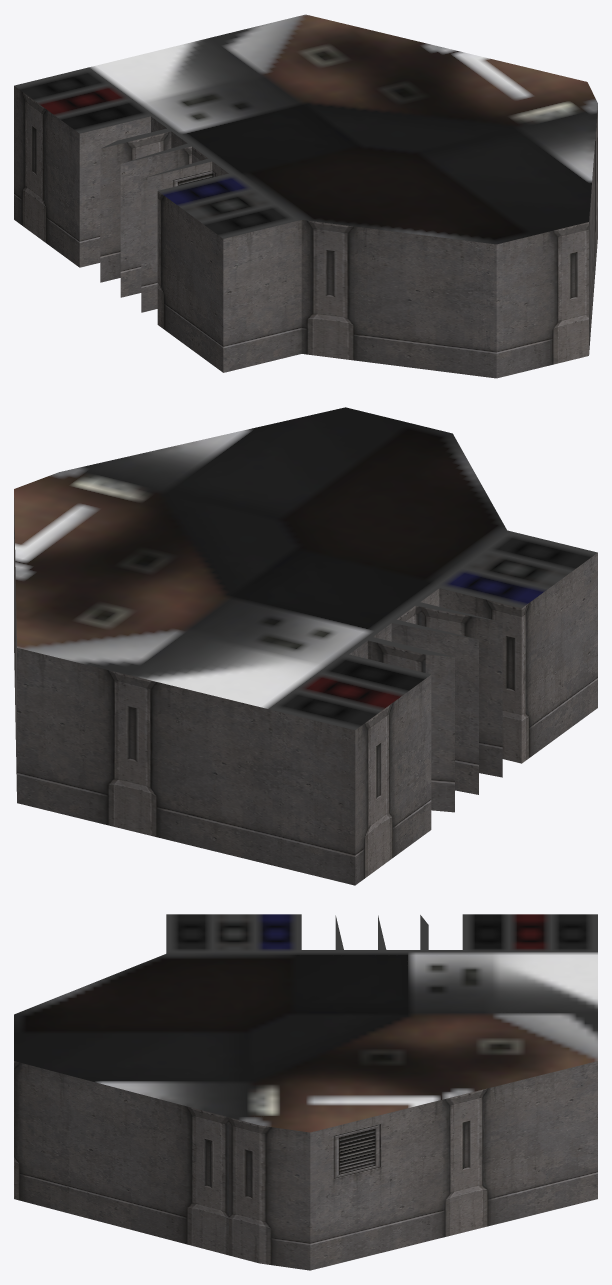
The model's file is BuildingSystem-03-Advance-04-ReinforcedLow-J-110-02.glb.
3 renders of one model, top to bottom at view 1: azimuth 30°, elevation 25°; view 2: azimuth 150°, elevation 25°; view 3: azimuth 270°, elevation 25°, orthographic. The views are drawn at different scales.
Visible parts, largest first — view 1: buildings/saxarba/SMV_Buildings/BuildingSystem-03-Advance-04; view 2: buildings/saxarba/SMV_Buildings/BuildingSystem-03-Advance-04; view 3: buildings/saxarba/SMV_Buildings/BuildingSystem-03-Advance-04.
Boxes of the visible parts, box(x1,y1,x2,y2) form: buildings/saxarba/SMV_Buildings/BuildingSystem-03-Advance-04: box(14, 14, 597, 378); buildings/saxarba/SMV_Buildings/BuildingSystem-03-Advance-04: box(14, 407, 597, 885); buildings/saxarba/SMV_Buildings/BuildingSystem-03-Advance-04: box(14, 914, 597, 1270).
Bounding box in the file's own units: 61 × 18 × 69.
